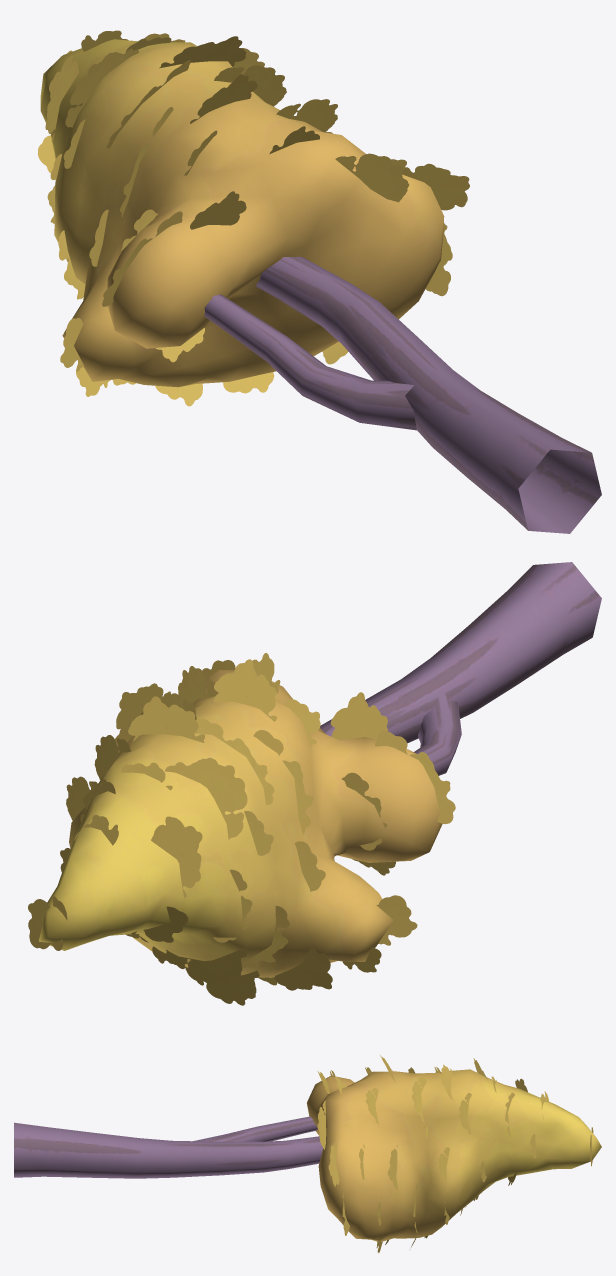
The model's file is Tree_Fluffy_B.fbx.
3 renders of one model, top to bottom at view 1: azimuth 30°, elevation 25°; view 2: azimuth 150°, elevation 25°; view 3: azimuth 270°, elevation 25°, orthographic. The views are drawn at different scales.
Visible parts, largest first — view 1: Foliage_B, Tree_Fluffy_B, Foliage_B_Alpha; view 2: Foliage_B, Foliage_B_Alpha, Tree_Fluffy_B; view 3: Foliage_B, Tree_Fluffy_B, Foliage_B_Alpha.
Boxes of the visible parts, bbox=[...] form: Foliage_B: bbox=[40, 39, 444, 387]; Tree_Fluffy_B: bbox=[204, 256, 601, 533]; Foliage_B_Alpha: bbox=[37, 30, 469, 406]; Foliage_B: bbox=[39, 669, 442, 977]; Foliage_B_Alpha: bbox=[28, 653, 455, 1005]; Tree_Fluffy_B: bbox=[320, 562, 601, 775]; Foliage_B: bbox=[307, 1069, 601, 1241]; Tree_Fluffy_B: bbox=[14, 1116, 323, 1178]; Foliage_B_Alpha: bbox=[317, 1055, 593, 1252].
Size of the model in its own units: 653 by 561 by 1462.
3 materials, 3 textured.
